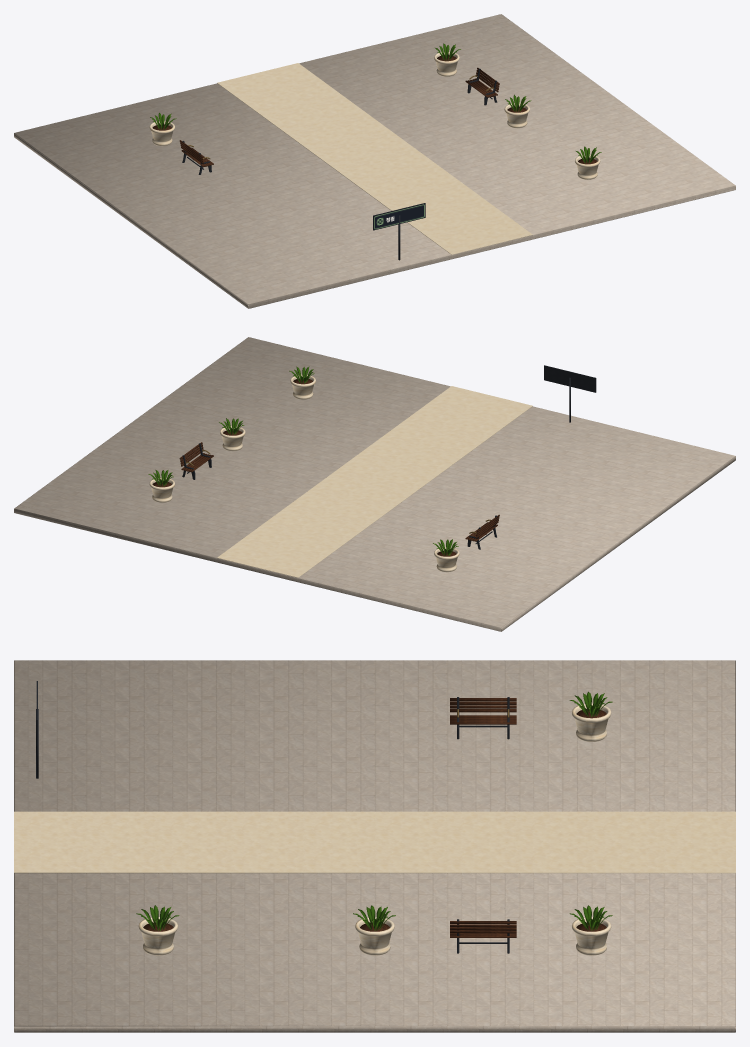
File: explore3d__park_garden.glb
3 views of the same model, one above another, from view 1: azimuth 30°, elevation 25°; view 2: azimuth 150°, elevation 25°; view 3: azimuth 270°, elevation 25° (orthographic). The views are drawn at different scales.
Visible parts, largest first — view 1: Rebuilt_park_garden; view 2: Rebuilt_park_garden; view 3: Rebuilt_park_garden.
Boxes of the visible parts, x1,y1,x2,y2 form: Rebuilt_park_garden: [14, 14, 735, 308]; Rebuilt_park_garden: [14, 337, 735, 631]; Rebuilt_park_garden: [14, 660, 735, 1032].
Bounding box in the file's own units: 24 × 2.61 × 20.
8 materials, 8 textured.
